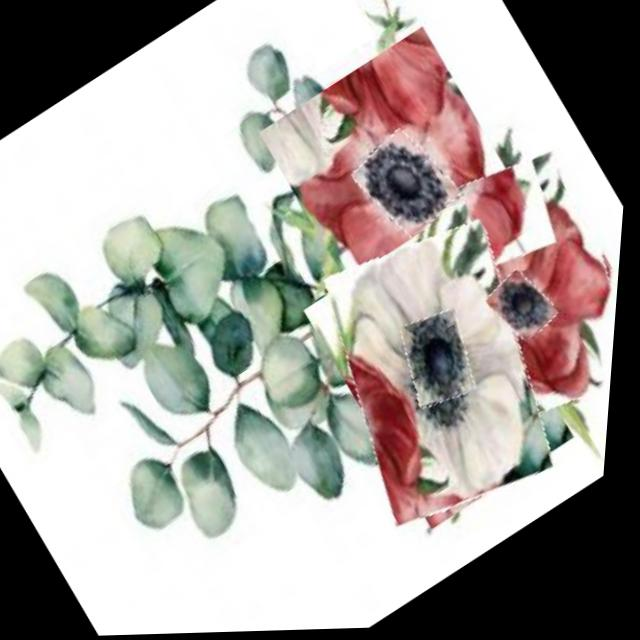Flower: (279, 202, 612, 550), (248, 24, 564, 350), (375, 130, 632, 454), (348, 121, 472, 248), (387, 303, 500, 420), (485, 265, 570, 351)
